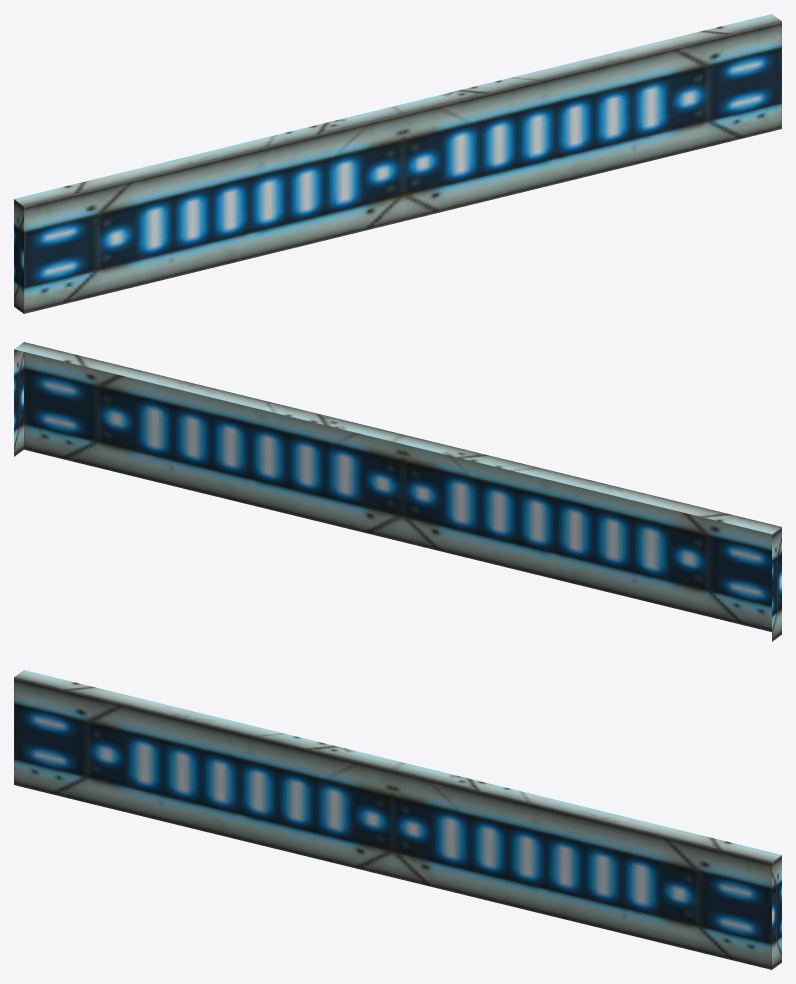
Rendered from rodape.fbx.
The picture shows the model from 3 angles, top to bottom: view 1: azimuth 30°, elevation 25°; view 2: azimuth 150°, elevation 25°; view 3: azimuth 330°, elevation 25°; orthographic projection.
Visible parts, largest first — view 1: Cylinder; view 2: Cylinder; view 3: Cylinder.
Part boxes in pixels (x1,y1,x2,y2): Cylinder: [14, 14, 781, 313]; Cylinder: [14, 342, 781, 641]; Cylinder: [14, 670, 781, 969].
Bounding box in the file's own units: 3.51 × 0.476 × 0.0802.
